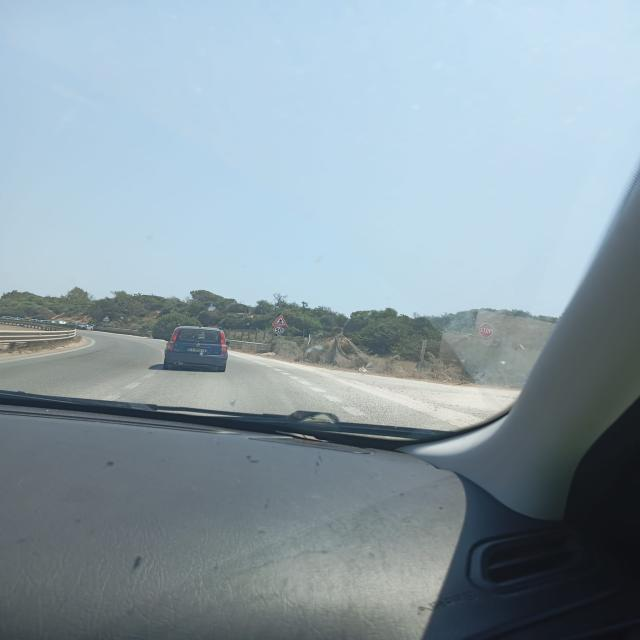forb_speed_over_50: (272, 326, 286, 336)
warn_crosswalk: (271, 314, 290, 326)
